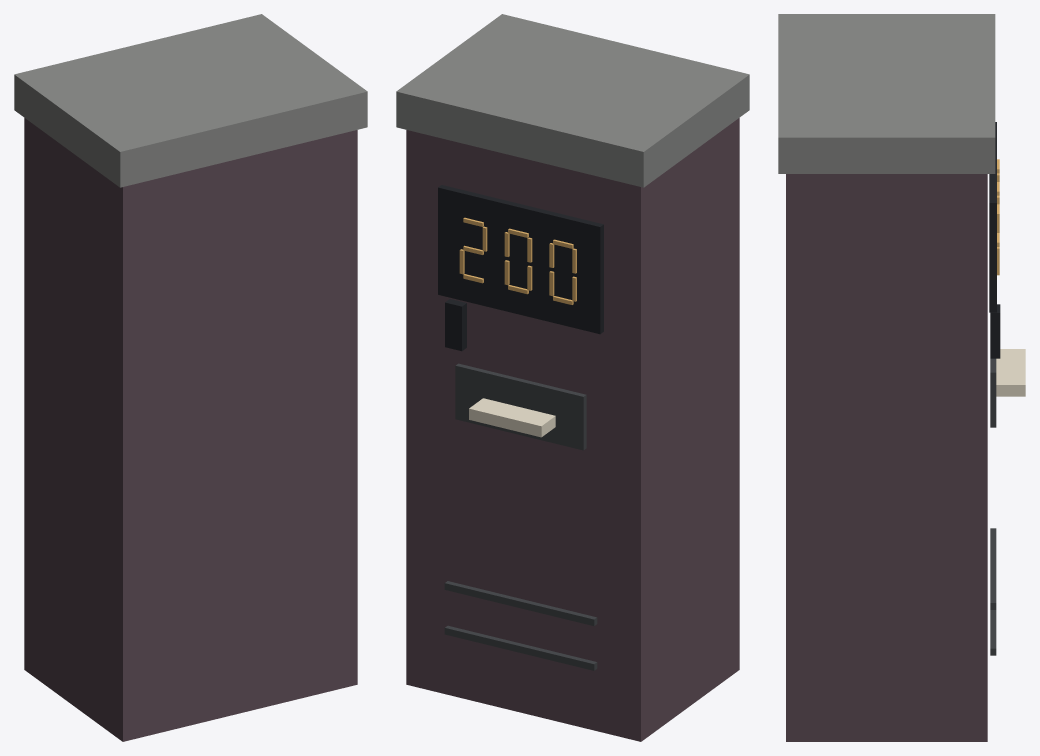
Rendered from payment_terminal.glb.
The picture shows the model from 3 angles, left to right: view 1: azimuth 30°, elevation 25°; view 2: azimuth 150°, elevation 25°; view 3: azimuth 270°, elevation 25°; orthographic projection. The views are drawn at different scales.
Visible parts, largest first — view 1: payment_terminal; view 2: payment_terminal; view 3: payment_terminal.
Part boxes in pixels (bbox=[...]): payment_terminal: bbox=[14, 14, 367, 741]; payment_terminal: bbox=[396, 14, 749, 741]; payment_terminal: bbox=[778, 14, 1025, 741].
Size of the model in its own units: 0.58 by 1.33 by 0.49.
